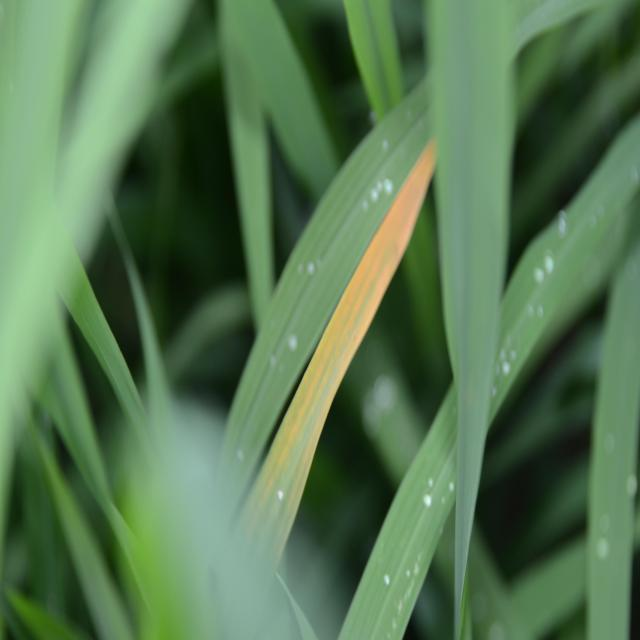Rice Tungro: (245, 153, 431, 593)
